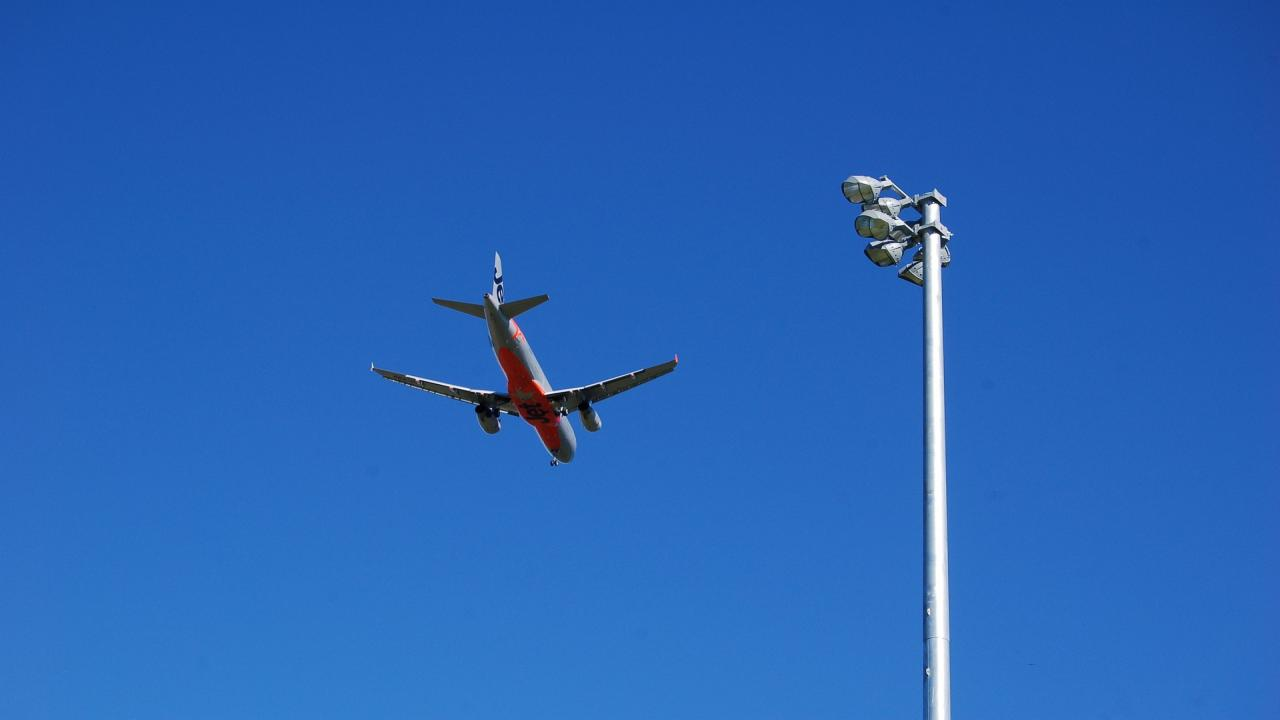Airplane: (356, 240, 695, 472)
